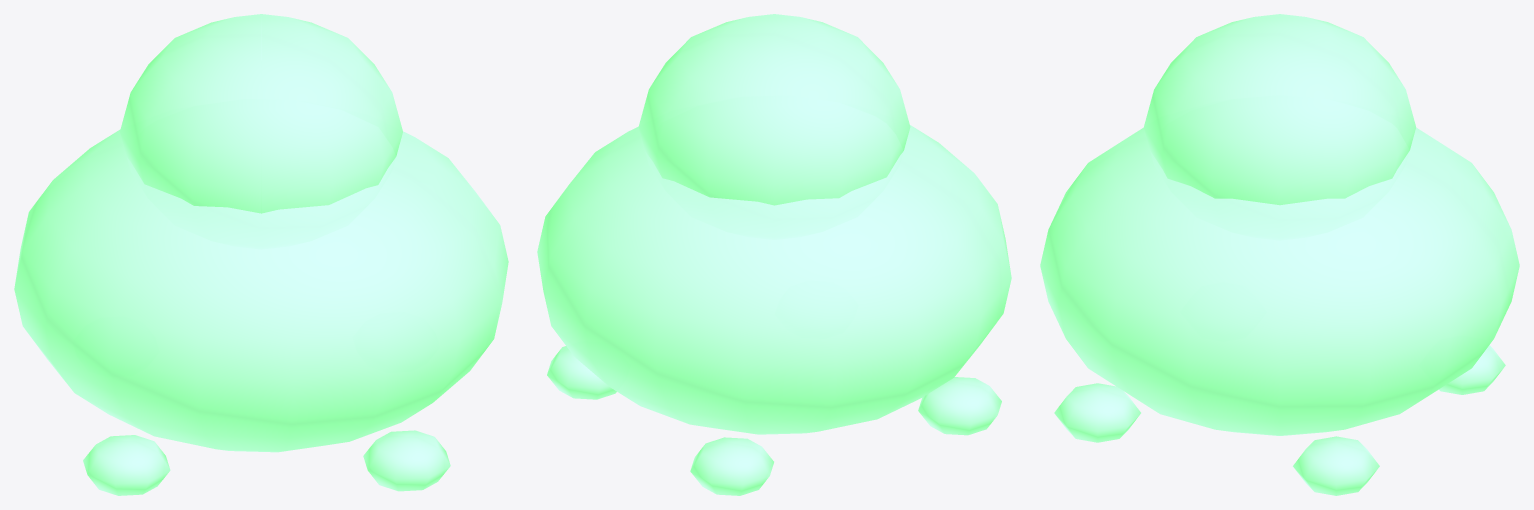
File: memory_leak.glb
3 views of the same model, side by side, from view 1: azimuth 30°, elevation 25°; view 2: azimuth 150°, elevation 25°; view 3: azimuth 270°, elevation 25° (orthographic). The views are drawn at different scales.
Parts seen in each view (by area): view 1: MLBody, MLHead, Drip_3, Drip_2; view 2: MLBody, MLHead, Drip_1, Drip_2, Drip_0; view 3: MLBody, MLHead, Drip_0, Drip_3, Drip_1.
Part boxes in pixels (box(x1,y1,x2,y2)): MLBody: box(14, 129, 508, 452); MLHead: box(120, 14, 402, 213); Drip_3: box(363, 430, 450, 491); Drip_2: box(83, 435, 170, 495); MLBody: box(537, 125, 1011, 434); MLHead: box(638, 14, 910, 205); Drip_1: box(690, 437, 773, 495); Drip_2: box(918, 377, 1001, 435); Drip_0: box(547, 346, 616, 399); MLBody: box(1040, 127, 1519, 435); MLHead: box(1143, 14, 1416, 205); Drip_0: box(1293, 436, 1379, 495); Drip_3: box(1054, 383, 1140, 442); Drip_1: box(1439, 345, 1505, 394).
Size of the model in its own units: 0.88 by 0.778 by 0.88.
